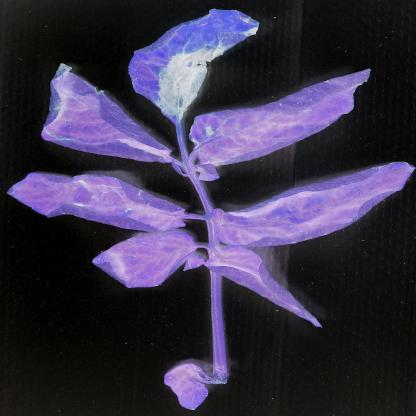Potato leaf late blight: (192, 67, 376, 170), (127, 4, 264, 128), (43, 62, 177, 165)
